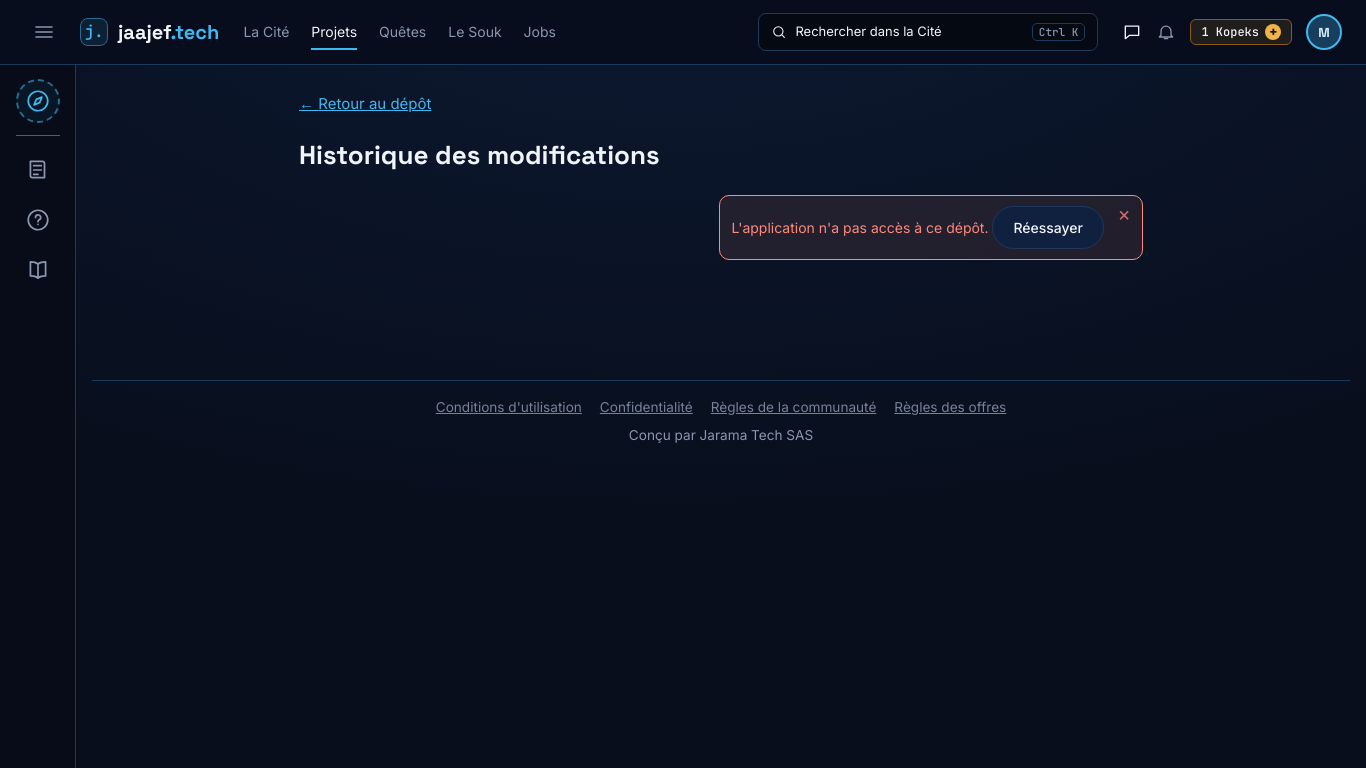
Test: Change history › explains a refusal from the GitHub app, and retries on request
This screenshot has width=1366, height=768.
Expected: the message shows "L'application n'a pas accès à ce dépôt.", [732,218,988,236]
Click the button "Réessayer" at (1048, 227), box [992,206,1104,248]
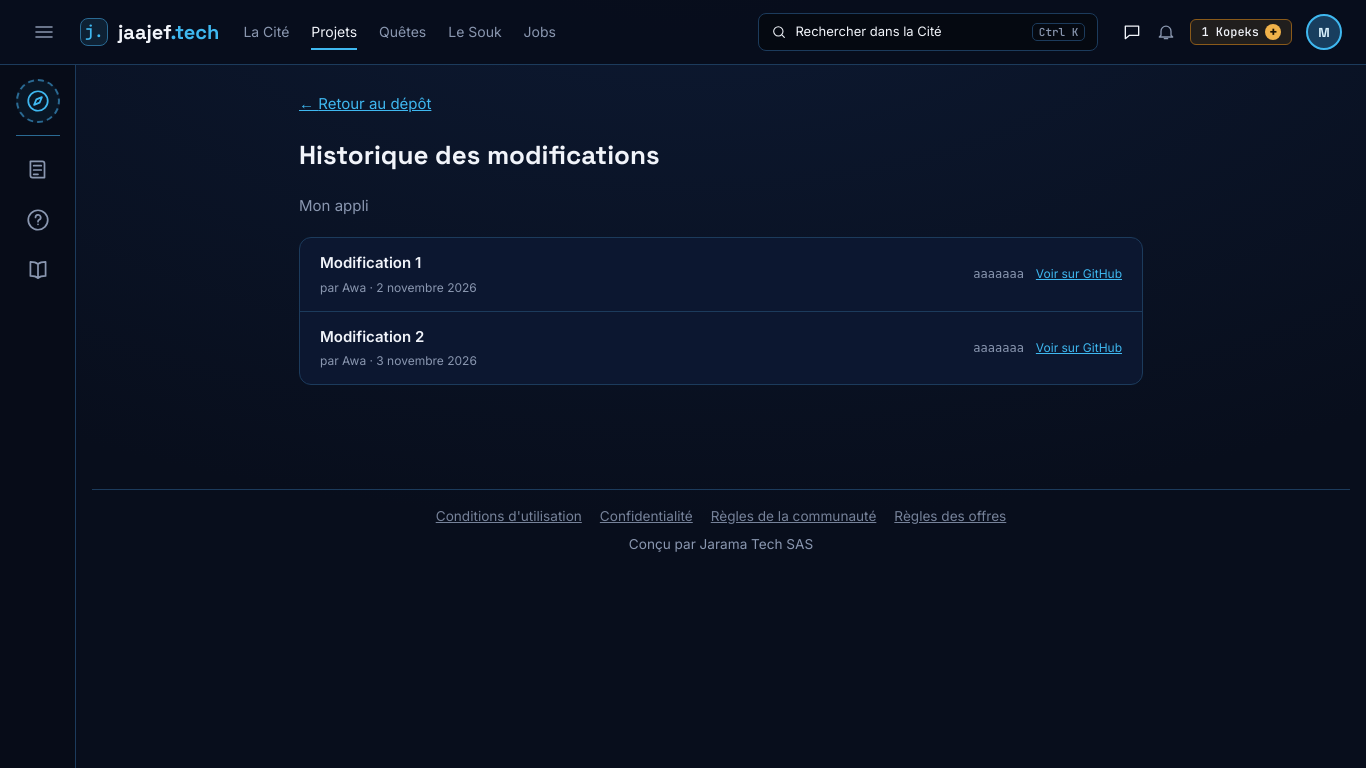
Expected: the text "Modification 1" is shown, [320,253,421,272]
